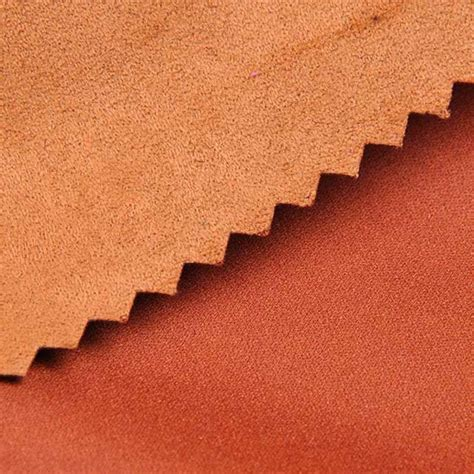gamuza: (1, 1, 474, 384)
